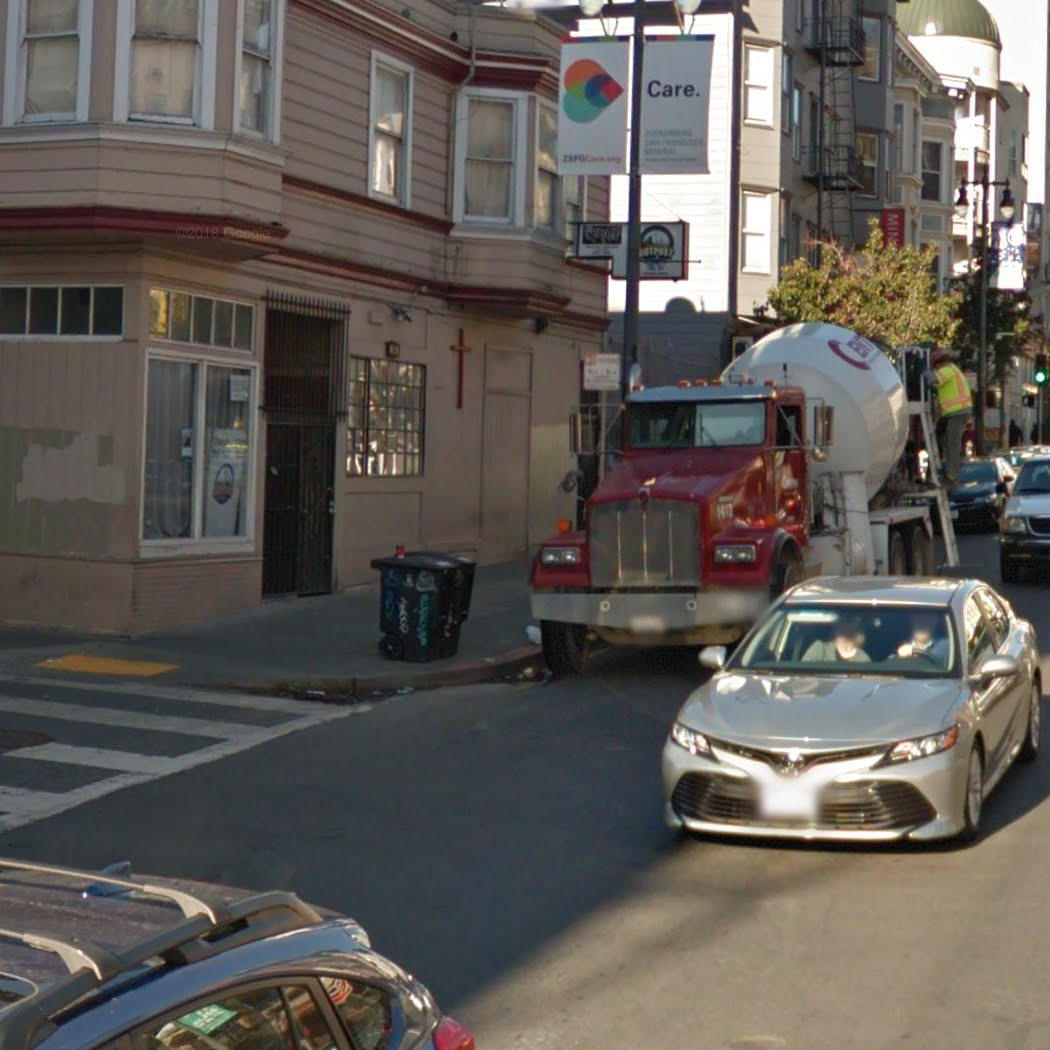No Parking: (581, 350, 622, 393)
